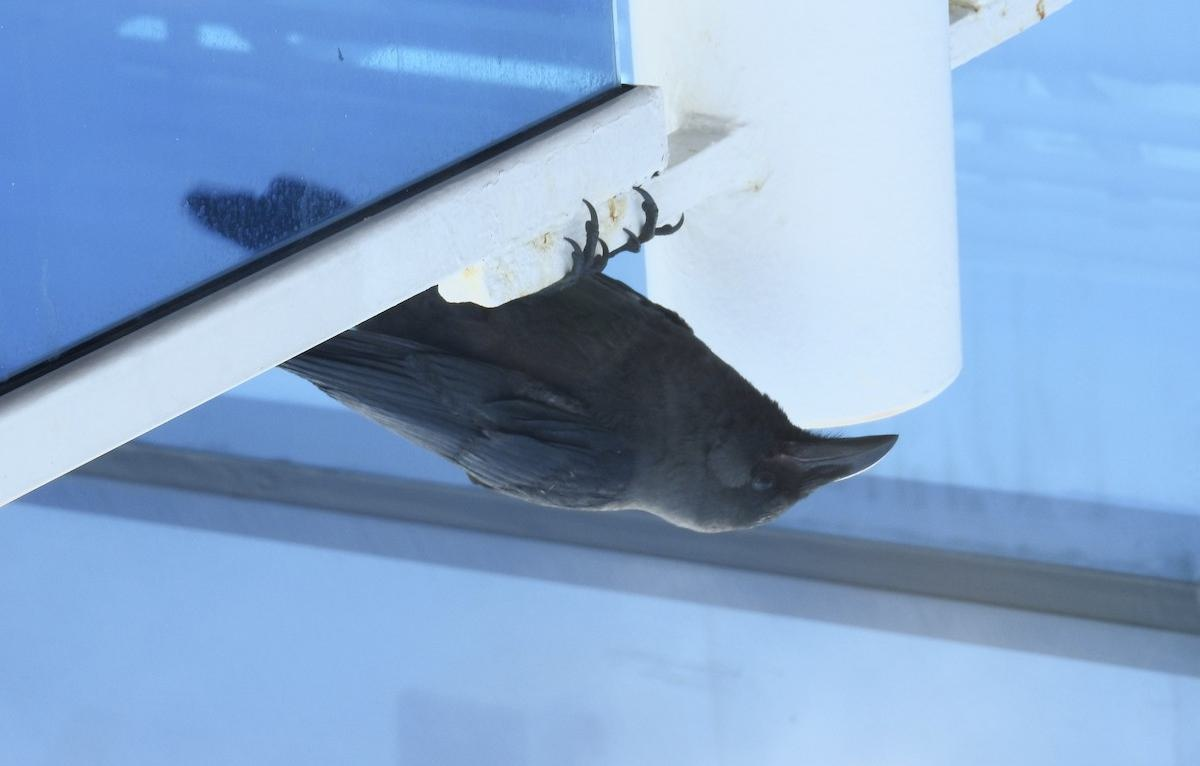crow: (212, 204, 907, 550)
